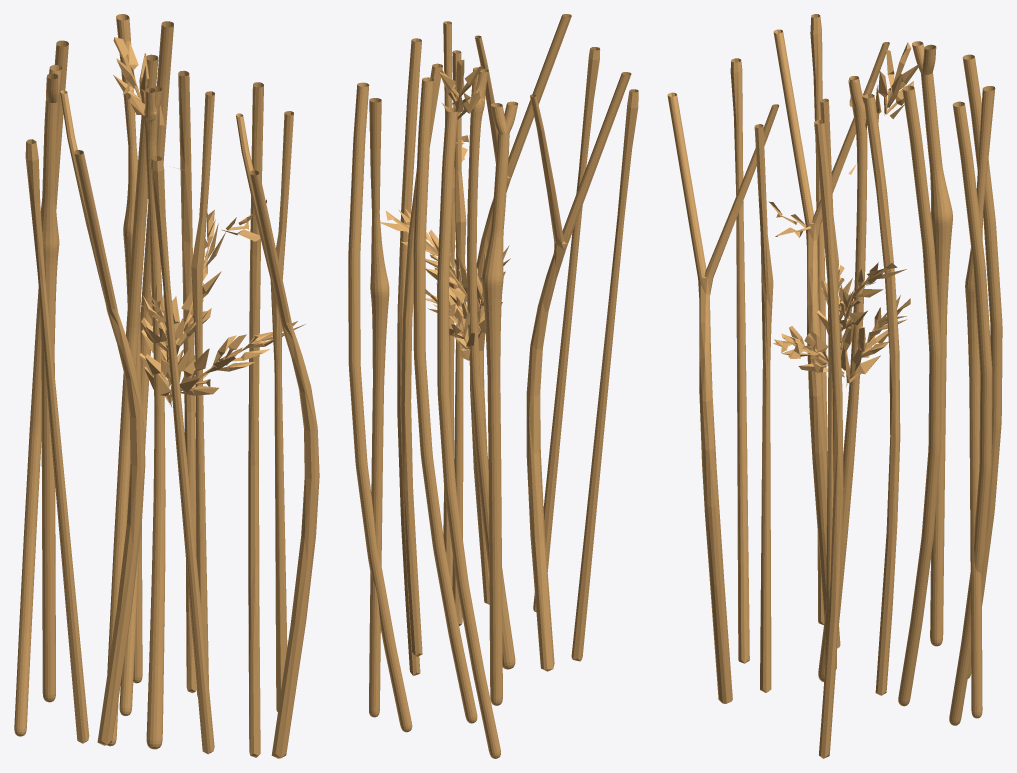
The model's file is particles4.fbx.
3 views of the same model, side by side, from view 1: azimuth 30°, elevation 25°; view 2: azimuth 150°, elevation 25°; view 3: azimuth 270°, elevation 25° (orthographic). The views are drawn at different scales.
Visible parts, largest first — view 1: trunk2.003; view 2: trunk2.003; view 3: trunk2.003.
Boxes of the visible parts, box(x1,y1,x2,y2) form: trunk2.003: box(14, 14, 319, 758); trunk2.003: box(348, 14, 638, 758); trunk2.003: box(667, 14, 1002, 758).
Size of the model in its own units: 102 by 264 by 119.
